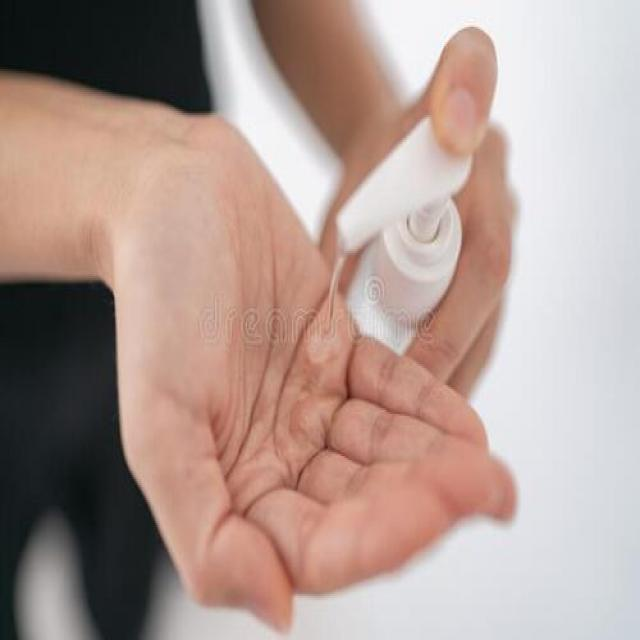sanitizer: (326, 122, 464, 348)
